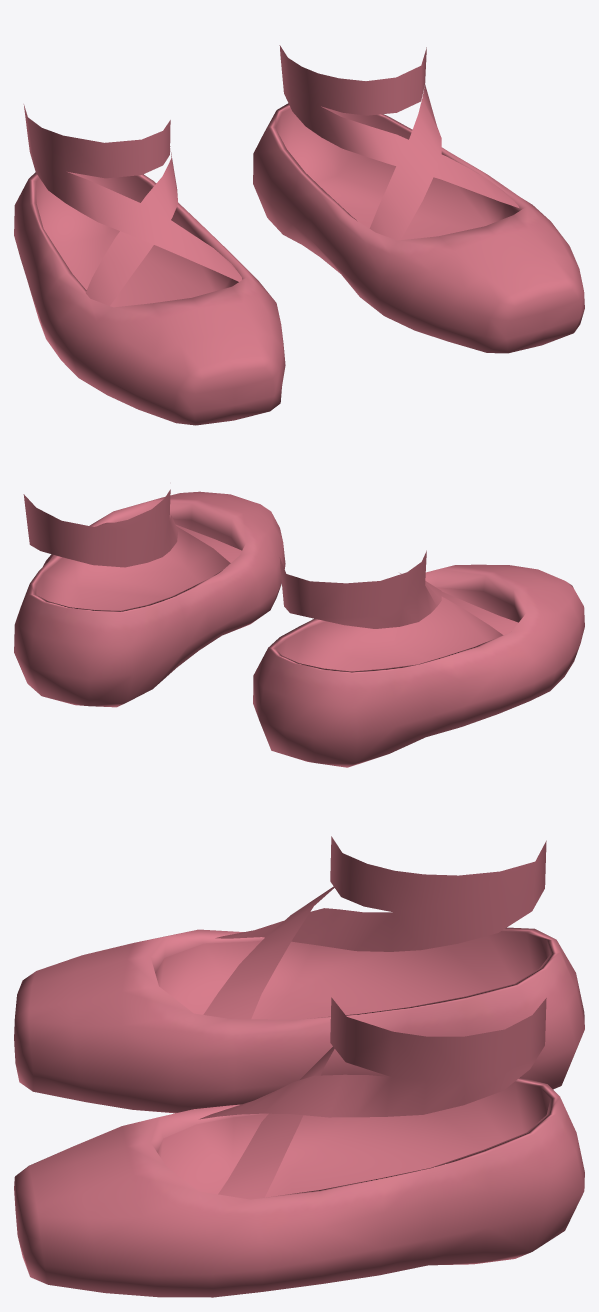
The model's file is ShoesLowcutBallet0.glb.
The picture shows the model from 3 angles, top to bottom: view 1: azimuth 30°, elevation 25°; view 2: azimuth 150°, elevation 25°; view 3: azimuth 270°, elevation 25°; orthographic projection. The views are drawn at different scales.
Parts seen in each view (by area): view 1: Body__mShoes; view 2: Body__mShoes; view 3: Body__mShoes.
Boxes of the visible parts, x1,y1,x2,y2 form: Body__mShoes: (14,45,584,425); Body__mShoes: (14,489,584,767); Body__mShoes: (14,836,584,1297).
Size of the model in its own units: 3.25 by 1.23 by 2.57.
Materials: 1 (1 with a texture image).
